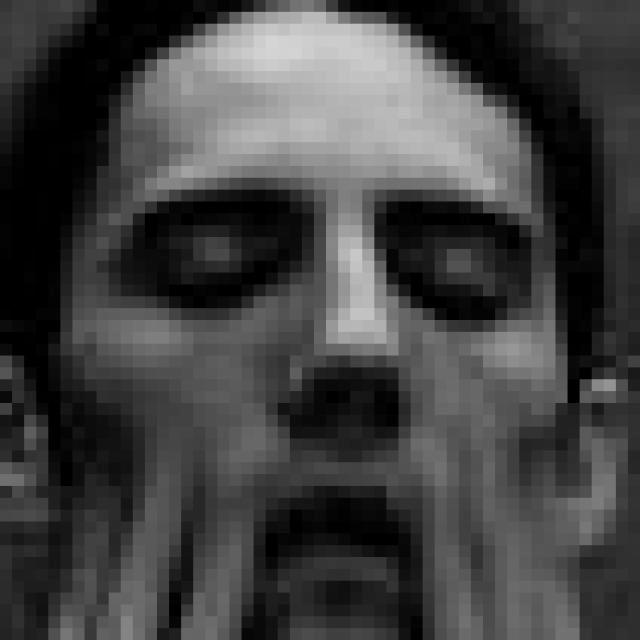real: (56, 7, 582, 597), (105, 192, 556, 347)
